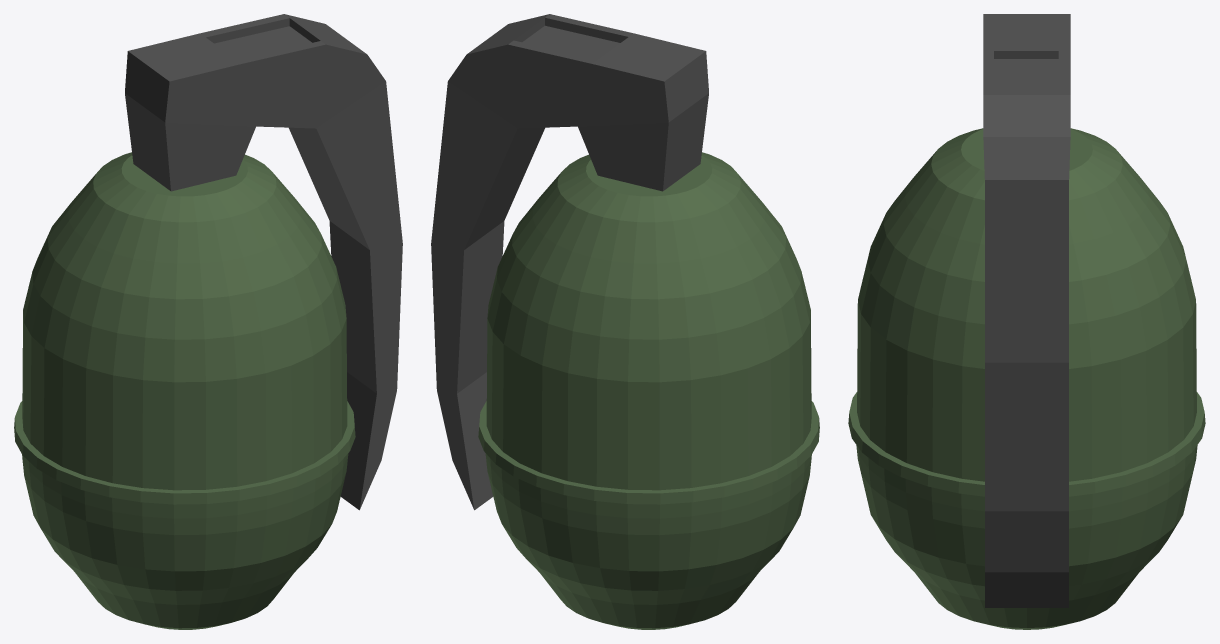
The model's file is Granada.fbx.
The picture shows the model from 3 angles, left to right: view 1: azimuth 30°, elevation 25°; view 2: azimuth 150°, elevation 25°; view 3: azimuth 270°, elevation 25°; orthographic projection. The views are drawn at different scales.
Parts seen in each view (by area): view 1: Sphere, Cube; view 2: Sphere, Cube; view 3: Sphere, Cube.
Boxes of the visible parts, x1,y1,x2,y2 form: Sphere: (14, 152, 355, 629); Cube: (125, 14, 402, 510); Sphere: (478, 152, 819, 629); Cube: (431, 14, 708, 510); Sphere: (848, 128, 1205, 629); Cube: (983, 14, 1070, 607).
Bounding box in the file's own units: 242 × 374 × 207.
